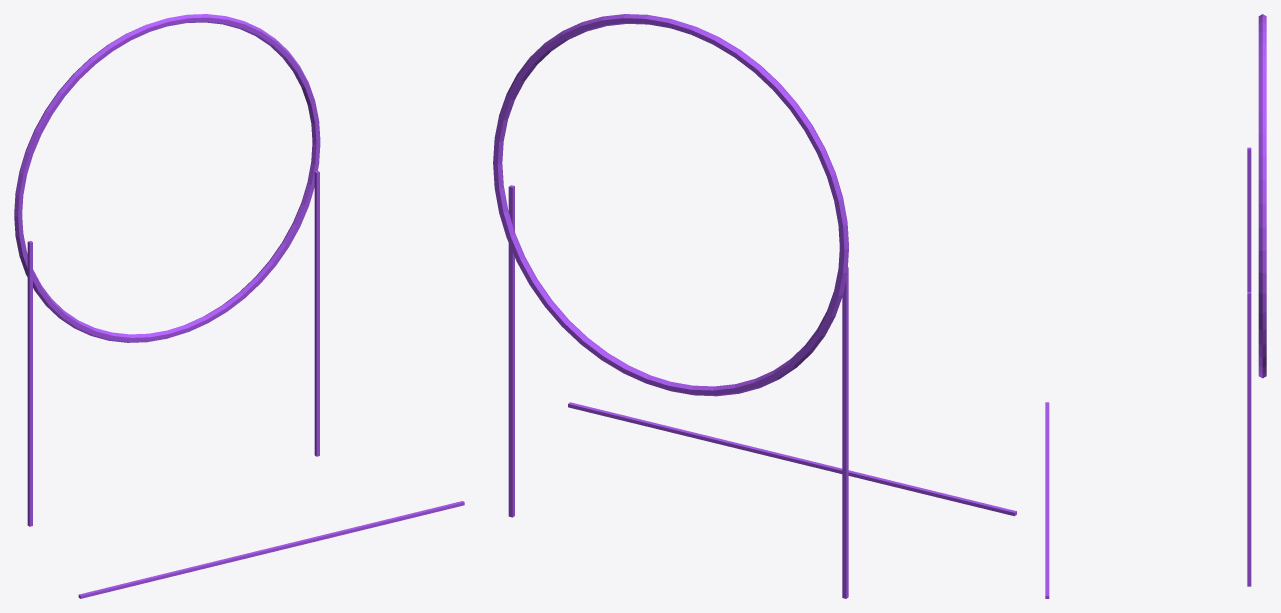
Rendered from StageGlow.fbx.
3 views of the same model, side by side, from view 1: azimuth 30°, elevation 25°; view 2: azimuth 150°, elevation 25°; view 3: azimuth 270°, elevation 25° (orthographic). The views are drawn at different scales.
Visible parts, largest first — view 1: ArchGlow.001; view 2: ArchGlow.001; view 3: ArchGlow.001.
Part boxes in pixels (x1=…): ArchGlow.001: x1=14, y1=14, x2=464, y2=598; ArchGlow.001: x1=493, y1=14, x2=1016, y2=598; ArchGlow.001: x1=1045, y1=14, x2=1266, y2=598.
Bounding box in the file's own units: 3400 × 3955 × 1645.
